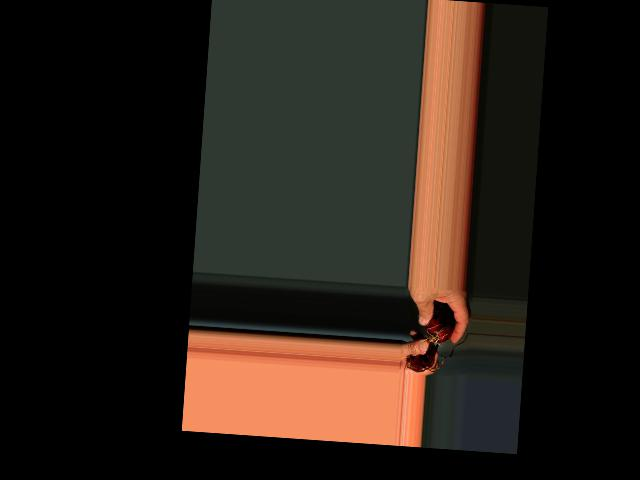onion: (424, 314, 454, 343)
